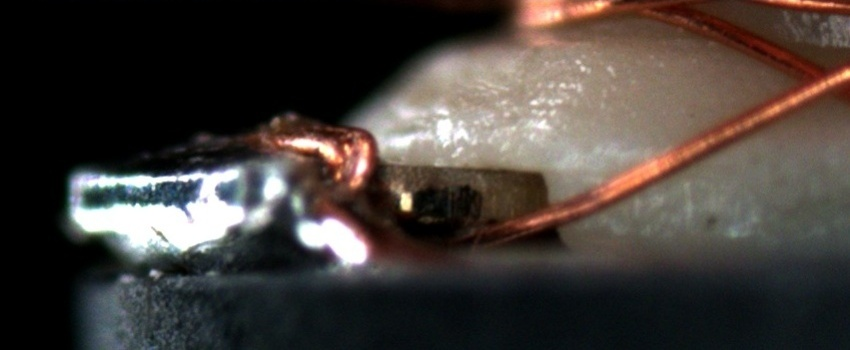CL: (779, 49, 848, 106)
DL: (558, 141, 705, 193)
TE: (241, 110, 381, 198)
